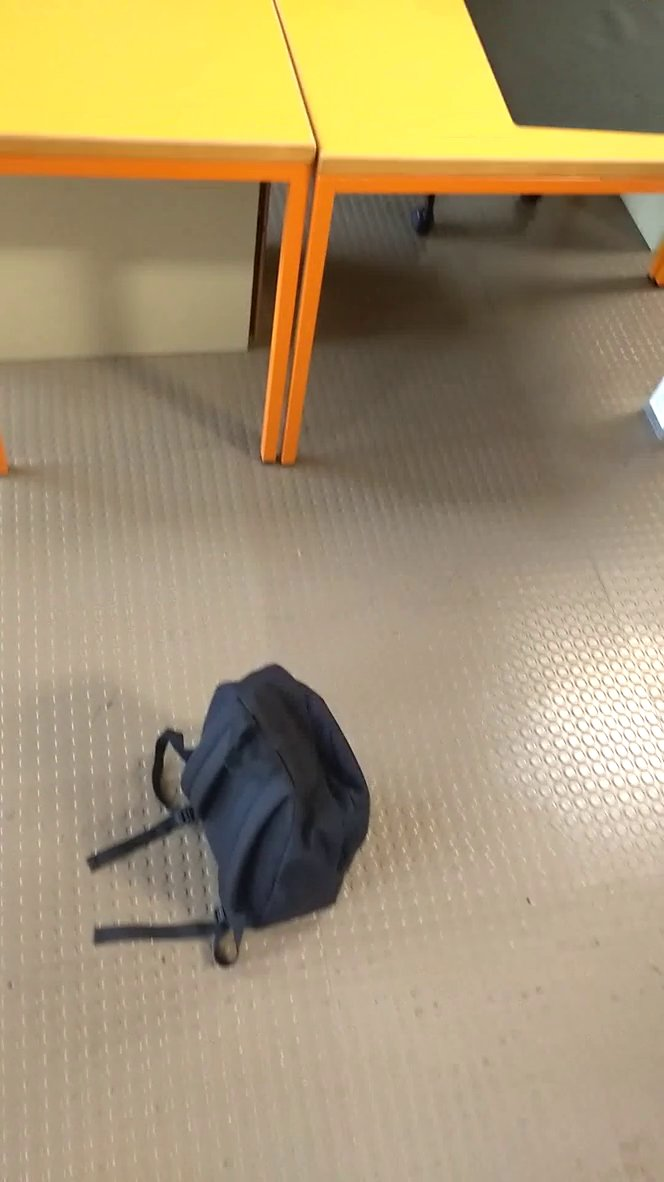bag: (82, 655, 395, 980)
